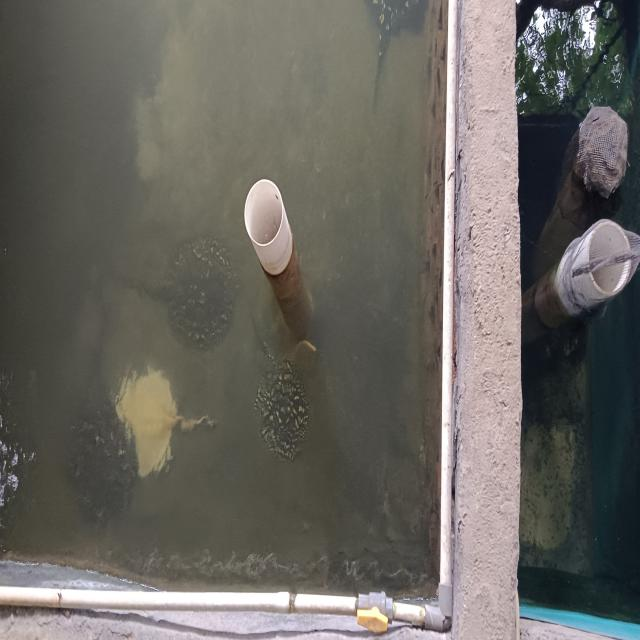albino-sting-ray: (115, 364, 214, 489)
black-diamond-sting-ray: (114, 204, 240, 372), (246, 319, 310, 493)
